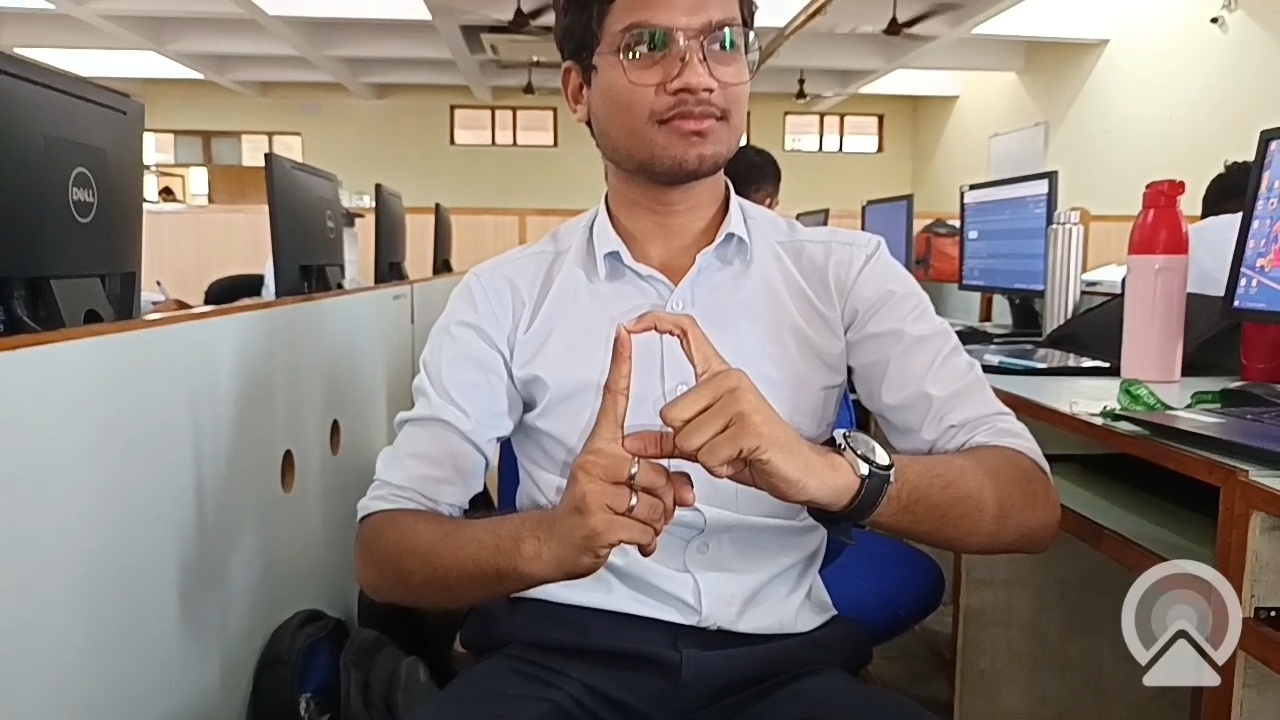D: (559, 294, 803, 489)
